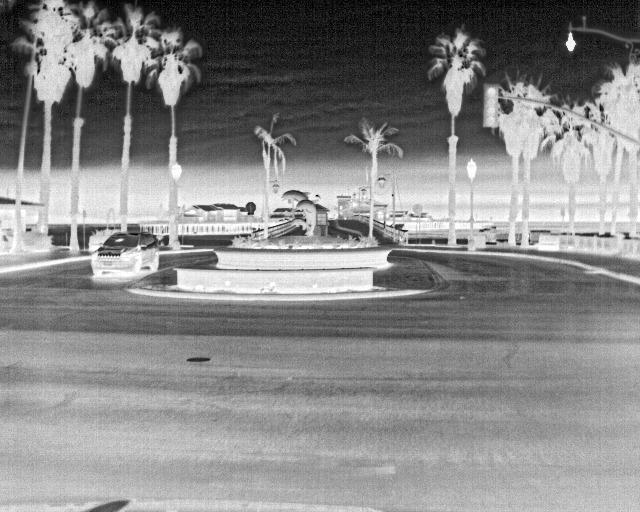car: (90, 232, 162, 280)
